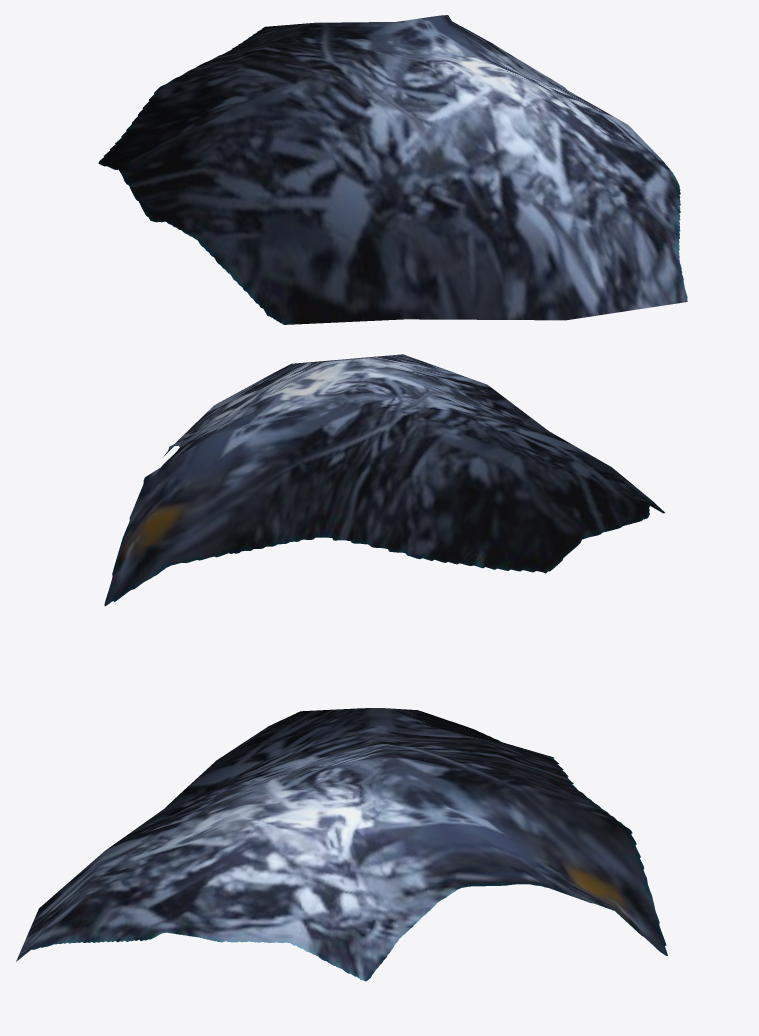
Rendered from ScrapMesh.fbx.
3 views of the same model, one above another, from view 1: azimuth 30°, elevation 25°; view 2: azimuth 150°, elevation 25°; view 3: azimuth 270°, elevation 25° (orthographic). The views are drawn at different scales.
Parts seen in each view (by area): view 1: Circle; view 2: Circle; view 3: Circle.
Part boxes in pixels (<box>): Circle: <box>98,15,687,324</box>; Circle: <box>104,354,664,606</box>; Circle: <box>16,708,667,981</box>.
Size of the model in its own units: 136 by 32.11 by 148.
